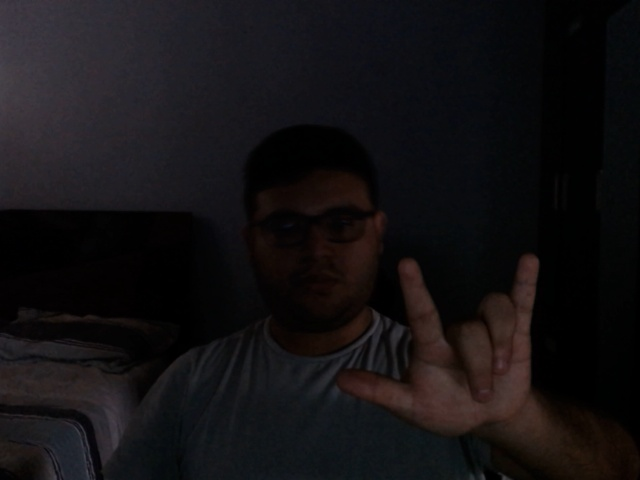I love you: (333, 237, 543, 449)
